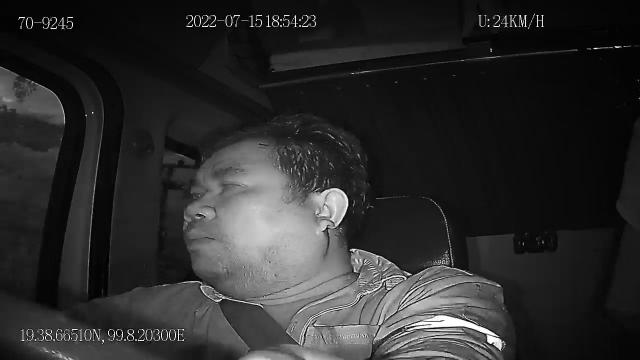Seatbelt: (218, 296, 304, 352)
